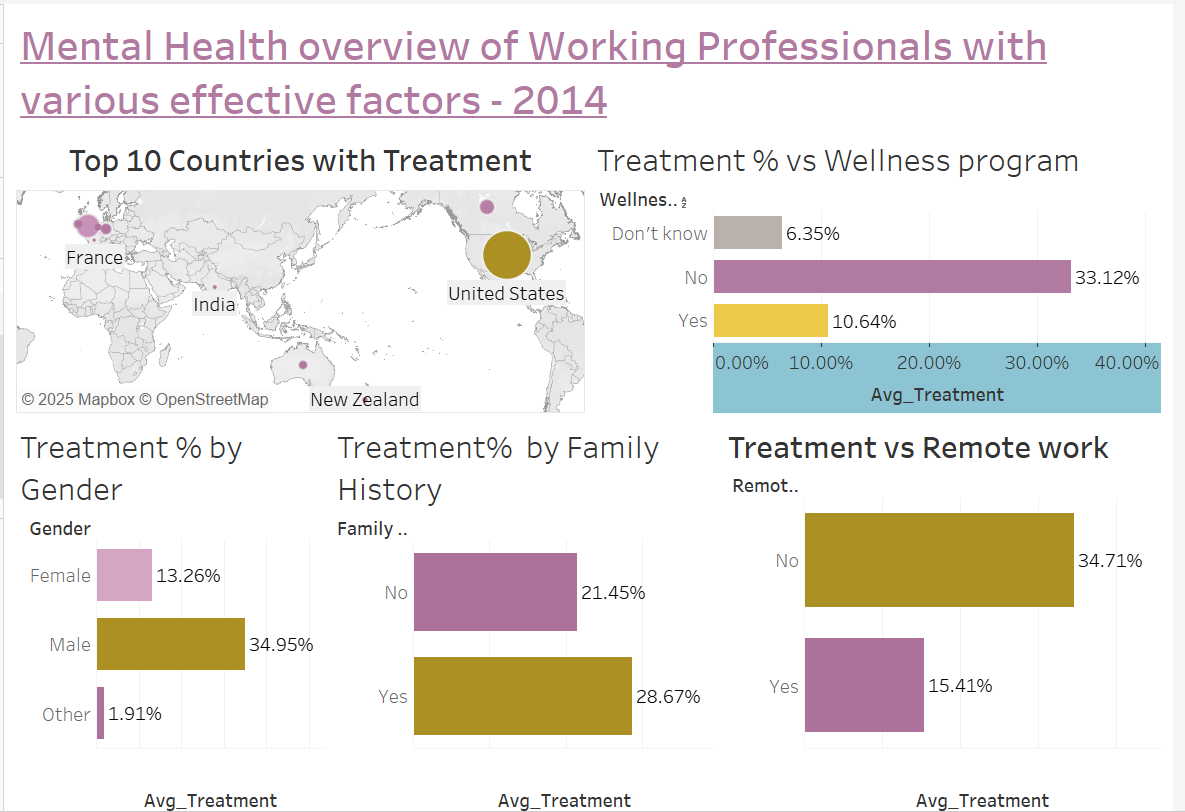

The page's visual inventory and layout, read from the dashboard file:
{"tool":"tableau","page":{"name":"Dashboard 1","canvas":[1169,827],"ordinal":0},"visuals":[{"type":"title","box":[8,8,1153,118]},{"type":"worksheet","title":"Top 10 Countries with Treatment","mark":"Automatic","box":[8,126,576.5,287]},{"type":"worksheet","title":"Treatment % vs Wellness program","mark":"Automatic","rows":["wellness_program"],"cols":["Calculation_910290110027292674"],"box":[584.5,126,576.5,287]},{"type":"worksheet","title":"Treatment % by Gender","mark":"Automatic","rows":["Gender"],"cols":["Calculation_910290110027292674"],"box":[8,413,317,406]},{"type":"worksheet","title":"Treatment%  by Family History","mark":"Automatic","rows":["family_history"],"cols":["Calculation_910290110027292674"],"box":[325,413,391,406]},{"type":"worksheet","title":"Treatment vs Remote work","mark":"Automatic","rows":["remote_work"],"cols":["Calculation_910290110027292674"],"box":[716,413,445,406]}]}

Visuals, with their boxes in screenshot pixels (x1, y1, x2, y2):
title: [100,42,1184,156]
"Top 10 Countries with Treatment" worksheet: [100,156,658,434]
"Treatment % vs Wellness program" worksheet: [658,156,1184,434]
"Treatment % by Gender" worksheet: [100,434,407,811]
"Treatment%  by Family History" worksheet: [407,434,786,811]
"Treatment vs Remote work" worksheet: [786,434,1184,811]
